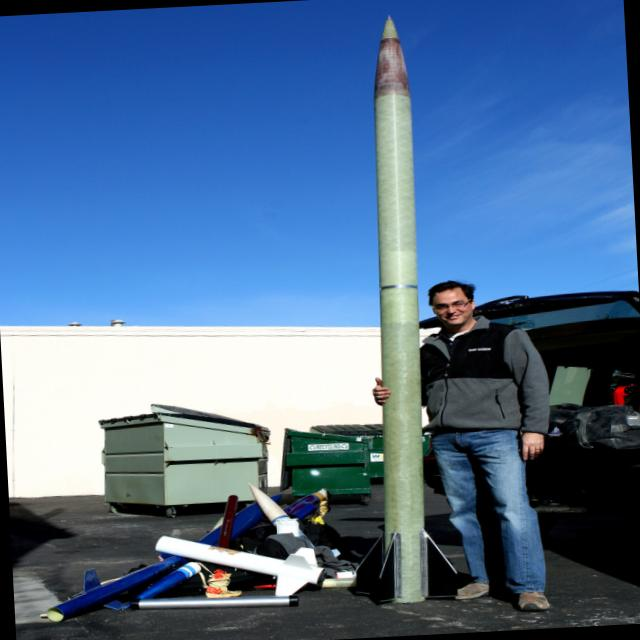rocket: (358, 7, 450, 587)
